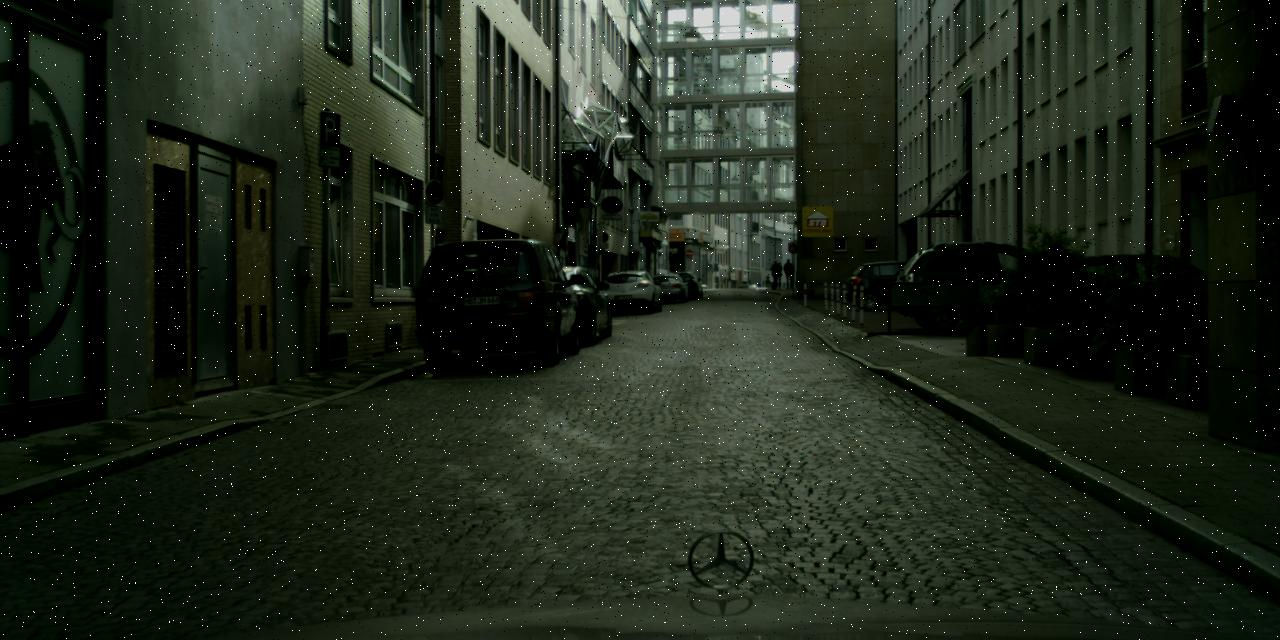ped: (782, 258, 794, 288), (768, 258, 780, 288), (772, 261, 783, 288)
